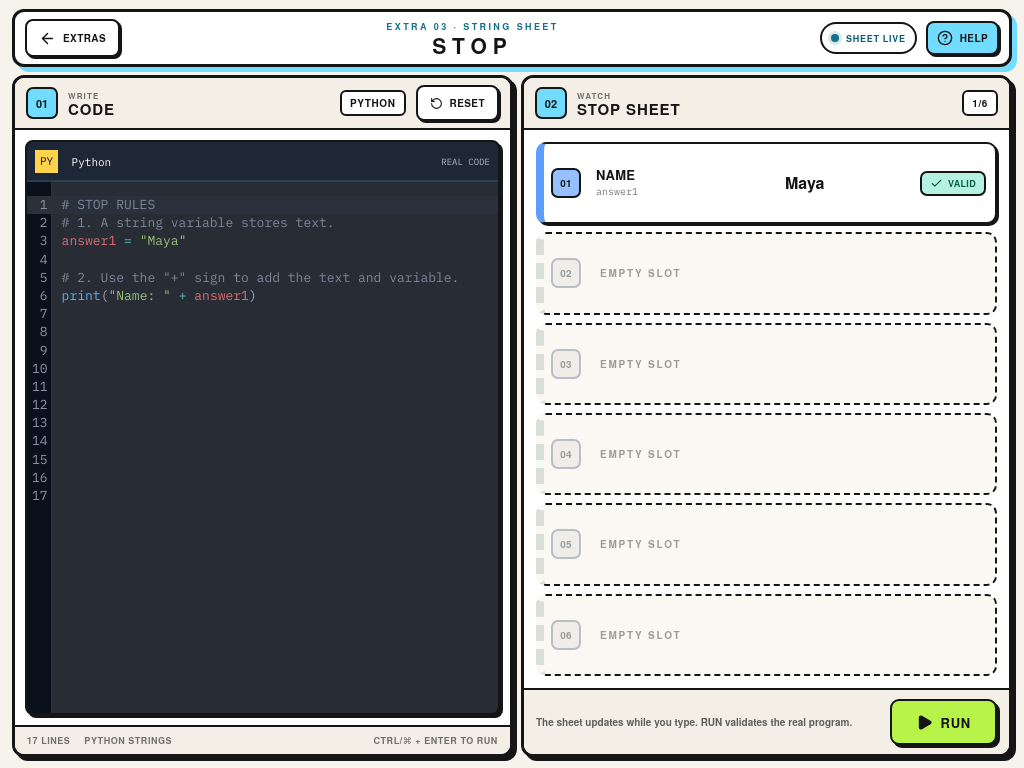
Test case: STOP string sheet › maps fallback runner errors to friendly language
What coordinates should you click on to do the following:
click the button "RUN"
I would click on:
 (943, 722)
Its box is [890,699,997,745].
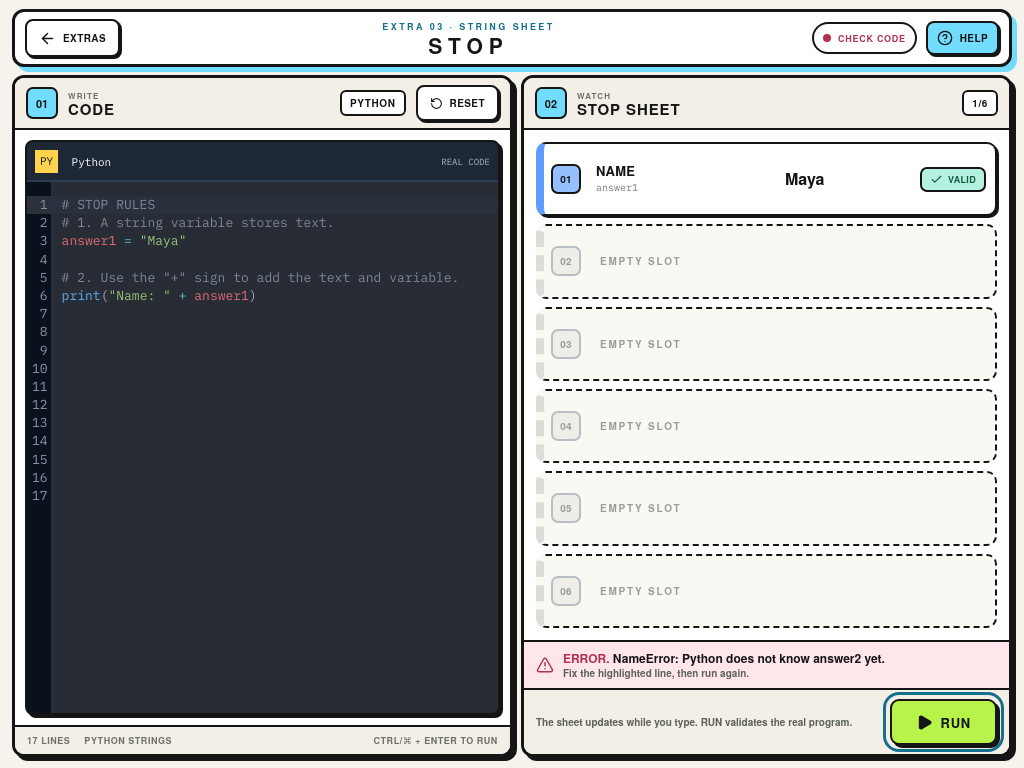
Check: the text "ERROR. NameError: Python does not know answer2 yet." is shown, box [563,649,885,667]
